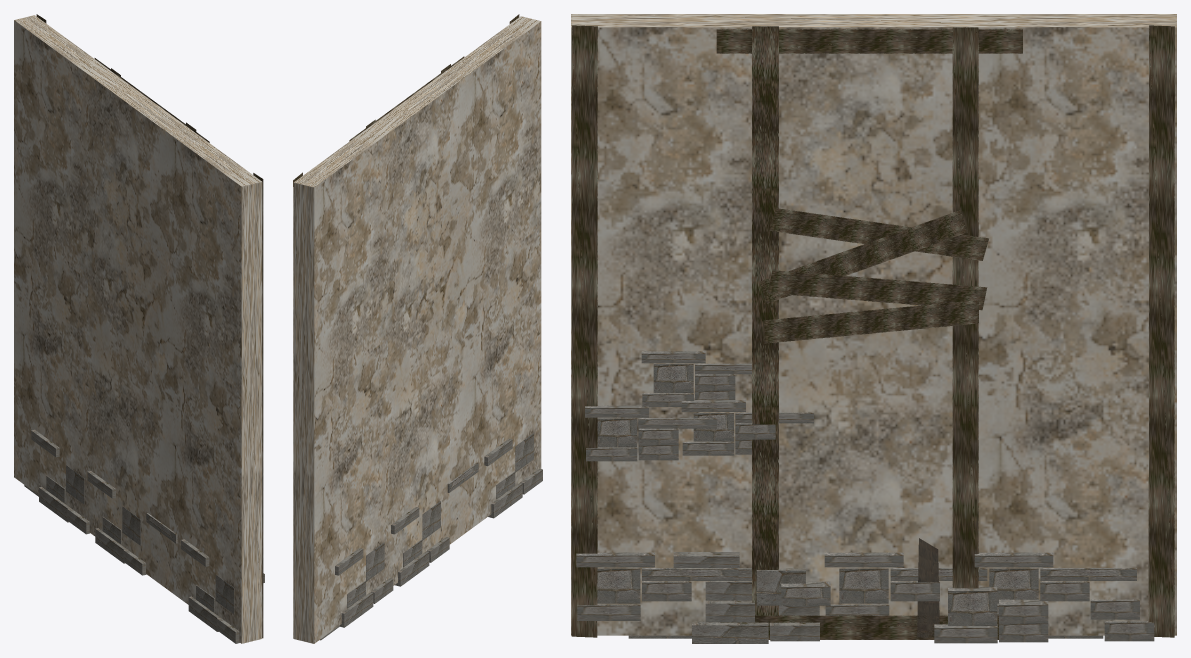
The model's file is WideWallBarried.fbx.
The picture shows the model from 3 angles, left to right: view 1: azimuth 30°, elevation 25°; view 2: azimuth 150°, elevation 25°; view 3: azimuth 270°, elevation 25°; orthographic projection. The views are drawn at different scales.
Parts seen in each view (by area): view 1: Cube.030, Plane.127, Plane.119, Plane.118, Plane.027; view 2: Cube.030, Plane.127, Plane.119, Plane.118, Plane.114; view 3: Cube.030, Plane.114, Plane.027, Plane.116, Plane.115, Plane.125, Plane.127, Plane.117, Plane.119, Plane.118, Plane.029, Plane.128 (+14 smaller).
Part boxes in pixels (x1=…): Cube.030: x1=14, y1=15, x2=262, y2=643; Plane.127: x1=181, y1=539, x2=264, y2=643; Plane.119: x1=87, y1=471, x2=146, y2=575; Plane.118: x1=31, y1=429, x2=89, y2=534; Plane.027: x1=253, y1=173, x2=263, y2=637; Cube.030: x1=293, y1=16, x2=541, y2=643; Plane.127: x1=484, y1=433, x2=542, y2=518; Plane.119: x1=391, y1=501, x2=449, y2=586; Plane.118: x1=335, y1=542, x2=393, y2=627; Plane.114: x1=293, y1=172, x2=302, y2=638; Cube.030: x1=571, y1=14, x2=1176, y2=635; Plane.114: x1=1148, y1=25, x2=1174, y2=637; Plane.027: x1=571, y1=25, x2=597, y2=637; Plane.116: x1=752, y1=26, x2=778, y2=615; Plane.115: x1=952, y1=27, x2=978, y2=588; Plane.125: x1=658, y1=552, x2=819, y2=643; Plane.127: x1=576, y1=552, x2=738, y2=638; Plane.117: x1=716, y1=29, x2=1022, y2=53; Plane.119: x1=824, y1=552, x2=987, y2=615; Plane.118: x1=974, y1=552, x2=1136, y2=638; Plane.029: x1=764, y1=300, x2=978, y2=343; Plane.128: x1=585, y1=405, x2=716, y2=461.
Size of the model in its own units: 33.41 by 456 by 406.
